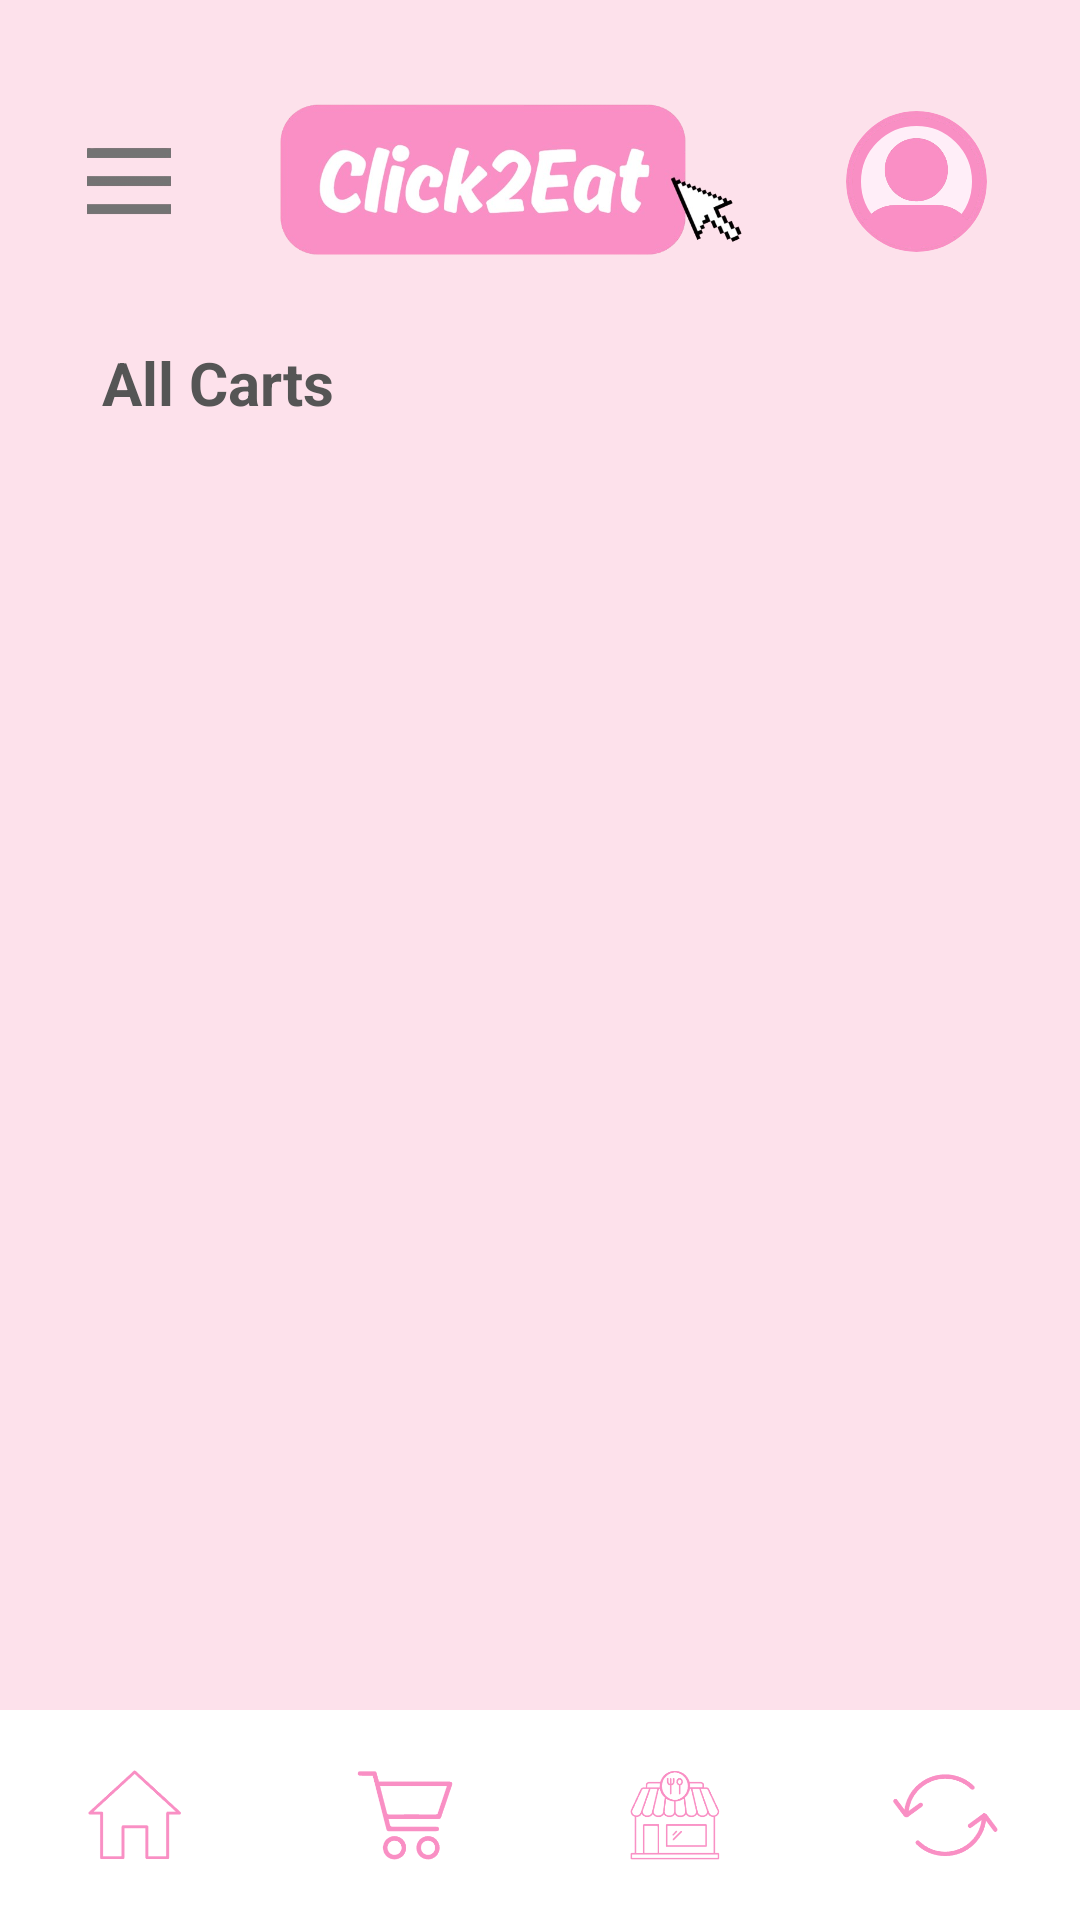

Icons on this 1080 × 1920 Android screen, each with the point to tap as (x,y):
Cart: (405,1815)
Home: (134,1814)
Menu: (129,181)
Open profile: (916,181)
Restaurants: (674,1815)
